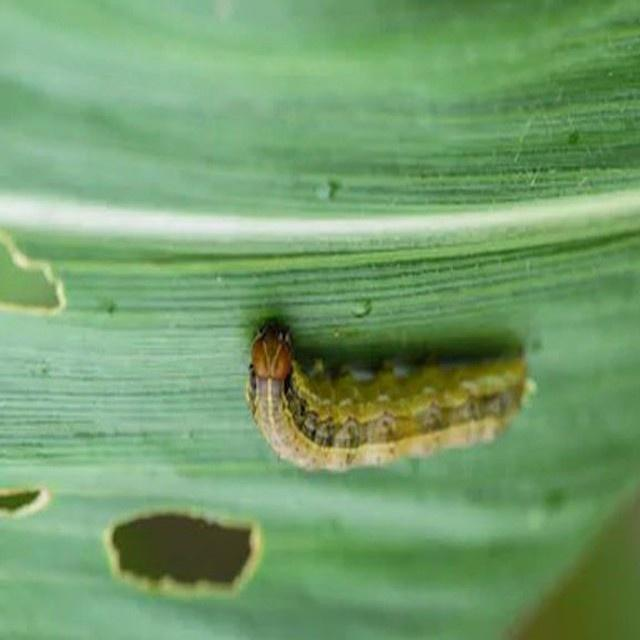gusano_cogollero: (254, 325, 532, 467)
